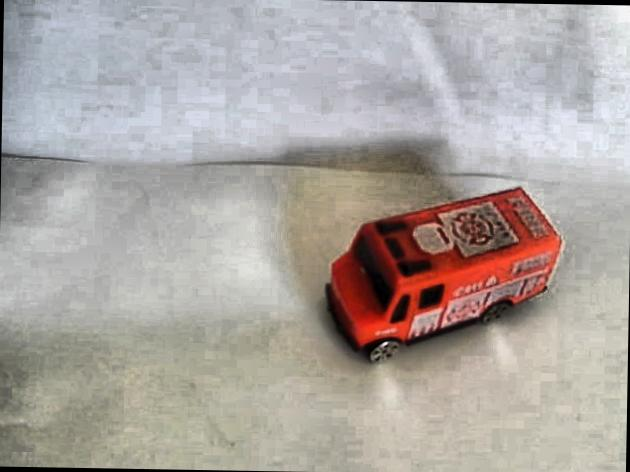fire_truck: (320, 180, 567, 367)
